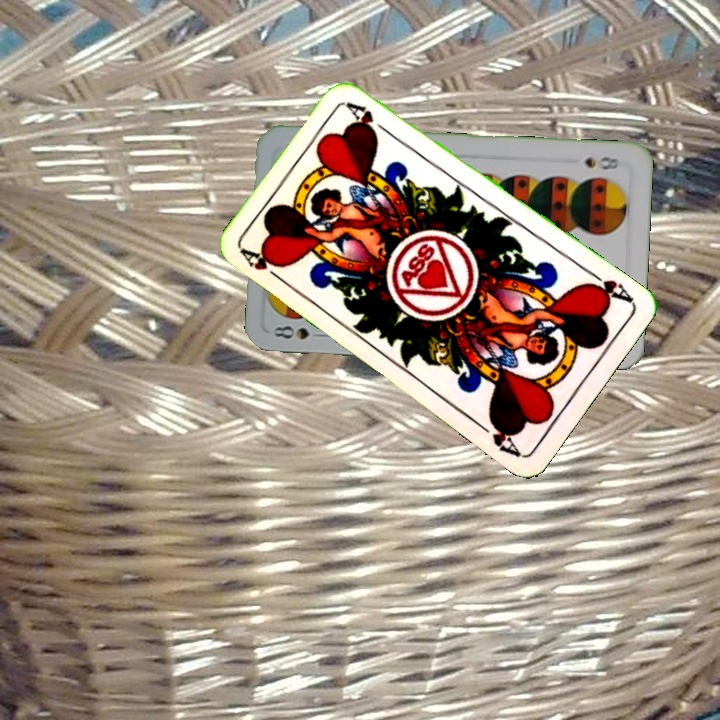HA: (581, 265, 635, 306), (238, 245, 290, 287)
S8: (269, 322, 328, 342), (580, 152, 622, 173)
